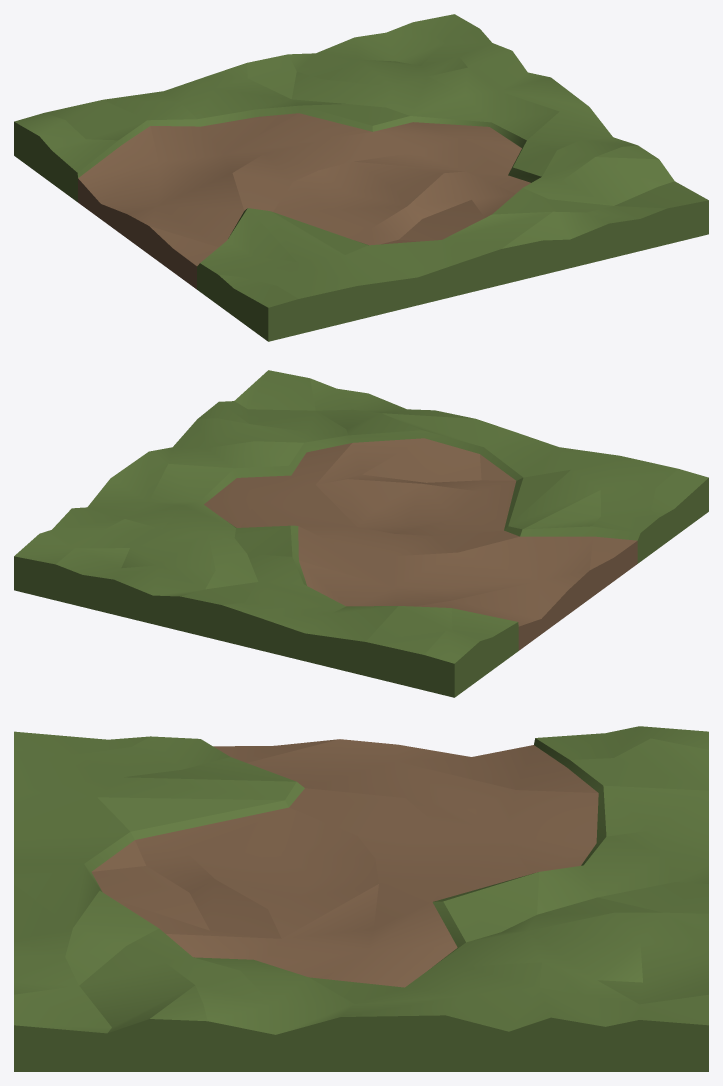
Rendered from Ground_Path_Ending_R.glb.
The picture shows the model from 3 angles, top to bottom: view 1: azimuth 30°, elevation 25°; view 2: azimuth 150°, elevation 25°; view 3: azimuth 270°, elevation 25°; orthographic projection. The views are drawn at different scales.
Parts seen in each view (by area): view 1: Ground_Path_Ending_R; view 2: Ground_Path_Ending_R; view 3: Ground_Path_Ending_R.
Part boxes in pixels (bbox=[...]): Ground_Path_Ending_R: bbox=[14, 14, 708, 341]; Ground_Path_Ending_R: bbox=[14, 370, 708, 697]; Ground_Path_Ending_R: bbox=[14, 726, 708, 1071].
Bounding box in the file's own units: 1.47 × 0.1396 × 1.47.
